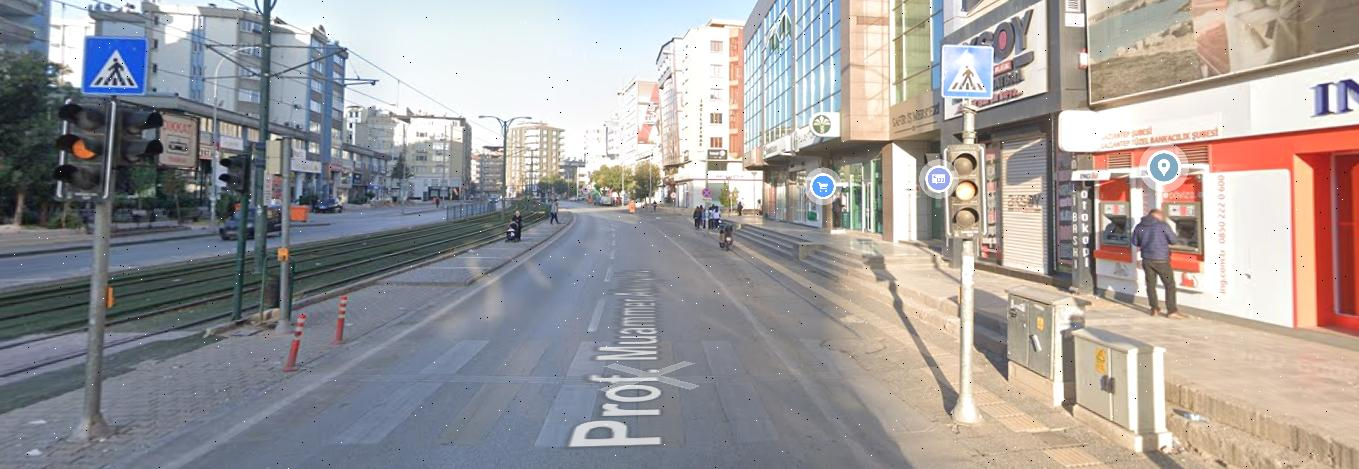yellowlight: (54, 104, 105, 201), (940, 148, 984, 245)
